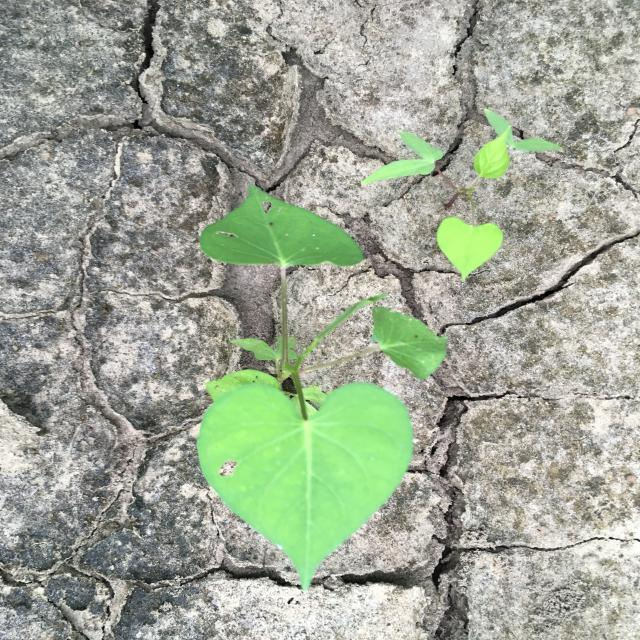MorningGlory: (197, 183, 449, 592), (361, 108, 563, 281)
